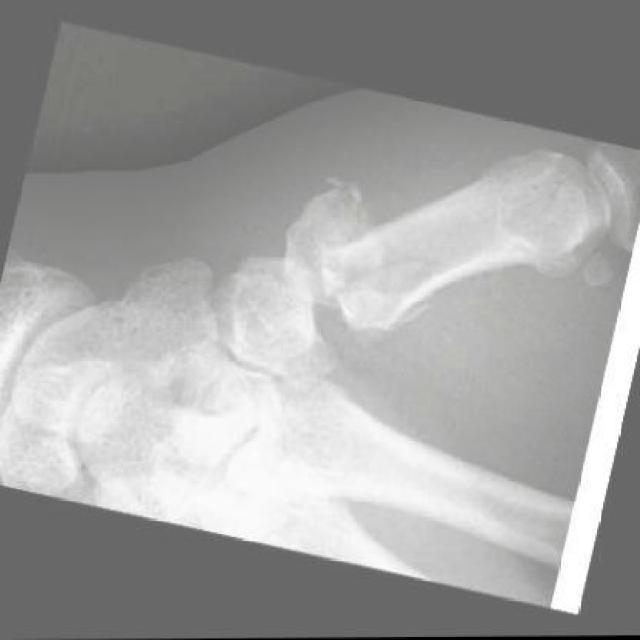Fracture: (256, 149, 430, 363)
